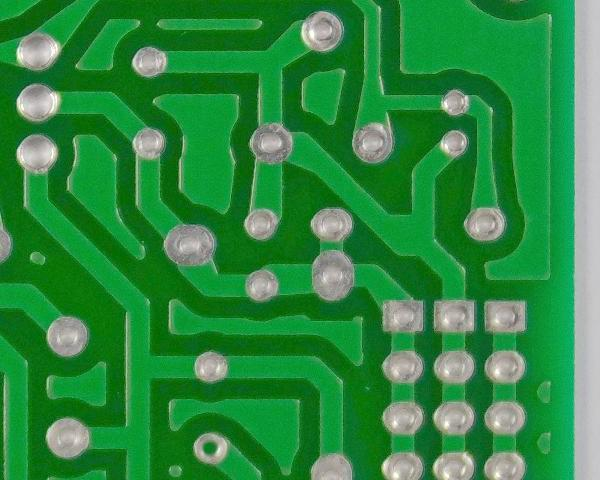missing hole: (188, 431, 231, 468)
